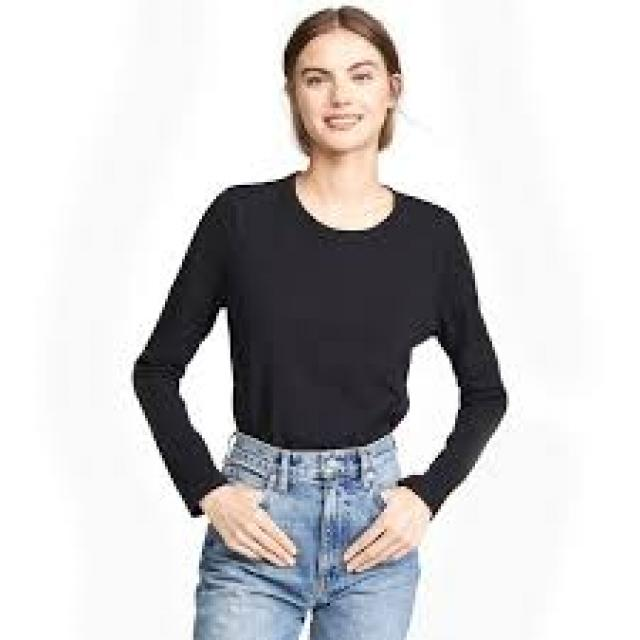plain: (126, 174, 518, 497)
